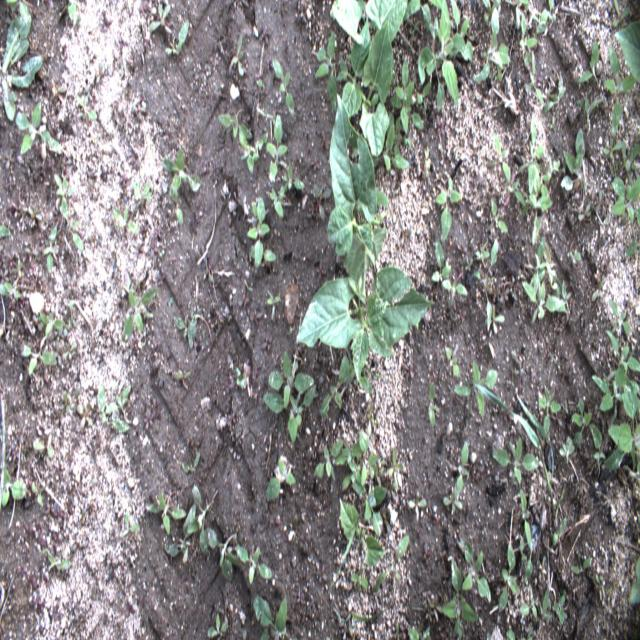crop: (294, 266, 434, 398), (326, 94, 388, 296), (337, 16, 393, 156), (338, 495, 388, 568), (328, 0, 408, 39), (613, 21, 639, 84)
weed: (484, 392, 564, 524), (414, 1, 474, 111), (0, 4, 45, 122), (263, 349, 317, 446), (164, 483, 218, 566), (442, 556, 479, 639), (473, 7, 511, 87), (471, 236, 500, 333), (454, 358, 498, 420), (608, 382, 639, 468), (492, 434, 538, 488), (15, 101, 60, 156), (606, 48, 635, 132), (246, 194, 277, 271), (162, 146, 203, 204), (314, 29, 339, 120), (390, 60, 422, 130), (122, 282, 159, 342), (321, 353, 354, 419), (590, 368, 638, 413), (252, 594, 297, 640), (433, 174, 463, 243), (354, 482, 391, 537), (374, 536, 410, 592), (96, 380, 130, 438), (462, 539, 492, 603), (264, 107, 289, 183), (148, 490, 186, 538), (606, 173, 640, 225), (520, 117, 543, 193), (561, 133, 587, 198), (521, 194, 553, 245), (522, 278, 559, 322), (237, 130, 273, 175), (497, 542, 520, 612), (218, 534, 250, 582), (333, 608, 379, 640), (266, 455, 297, 502), (273, 56, 295, 118), (606, 333, 639, 373), (1, 466, 27, 514), (533, 243, 558, 292), (24, 338, 57, 375), (486, 132, 511, 180), (382, 127, 408, 173), (217, 112, 254, 144), (174, 307, 200, 352), (431, 236, 453, 287), (315, 439, 341, 482), (518, 13, 539, 65), (404, 0, 440, 30), (247, 546, 273, 587), (34, 310, 67, 342), (575, 93, 603, 130), (483, 299, 507, 342), (359, 432, 379, 483), (538, 390, 560, 436), (525, 54, 544, 106), (55, 172, 75, 220), (572, 399, 591, 448), (486, 193, 508, 234), (443, 475, 469, 509), (164, 22, 190, 54), (590, 422, 606, 473), (111, 206, 140, 234), (385, 444, 403, 489), (518, 489, 532, 546), (579, 44, 598, 86), (546, 74, 566, 113), (609, 300, 631, 335), (42, 546, 72, 571), (42, 223, 56, 275), (550, 586, 568, 626), (346, 565, 370, 595), (268, 182, 286, 222), (0, 393, 6, 512), (282, 160, 306, 189), (442, 280, 468, 306), (148, 2, 171, 31), (427, 379, 440, 430), (342, 457, 361, 491), (569, 551, 593, 577), (628, 554, 640, 606), (518, 587, 538, 618), (265, 288, 282, 322), (334, 444, 359, 467), (551, 514, 567, 549), (120, 509, 140, 537), (32, 435, 54, 460), (524, 539, 535, 589), (538, 586, 552, 625), (444, 346, 460, 380), (232, 34, 245, 75), (408, 493, 427, 521), (538, 0, 557, 28), (209, 610, 227, 639), (623, 141, 639, 172), (366, 401, 380, 436), (612, 0, 630, 27), (482, 0, 504, 22), (596, 564, 607, 608), (601, 139, 622, 162), (544, 153, 560, 183), (515, 0, 530, 31), (0, 279, 22, 300), (388, 110, 402, 142), (403, 624, 431, 640), (312, 188, 332, 210), (132, 181, 152, 203), (72, 218, 84, 254), (182, 451, 201, 473), (558, 437, 573, 464), (560, 276, 571, 312), (116, 386, 130, 414), (420, 146, 432, 178), (67, 0, 81, 27), (76, 402, 91, 426), (458, 441, 469, 473), (592, 276, 606, 299), (418, 84, 430, 110), (235, 366, 247, 391), (625, 242, 640, 262), (31, 483, 43, 507), (430, 596, 440, 624), (62, 388, 72, 415), (477, 244, 489, 266), (508, 179, 521, 199), (29, 205, 44, 222), (50, 82, 68, 96), (63, 342, 76, 361), (538, 174, 550, 194), (68, 300, 76, 329), (576, 205, 590, 221), (519, 538, 527, 566), (390, 620, 401, 640), (521, 626, 536, 640), (174, 370, 192, 381), (75, 95, 90, 108), (0, 222, 10, 241), (176, 205, 184, 228), (568, 250, 582, 263), (464, 258, 474, 276), (425, 604, 434, 624), (596, 188, 603, 212), (504, 627, 516, 639), (16, 256, 22, 280), (88, 108, 97, 122), (256, 78, 266, 90), (402, 228, 410, 242), (404, 132, 411, 148), (540, 555, 545, 577), (549, 114, 555, 130), (564, 398, 569, 417), (158, 246, 165, 259), (551, 353, 556, 365), (287, 324, 291, 339), (396, 176, 400, 190), (208, 272, 213, 283), (167, 296, 172, 306), (485, 632, 492, 639)
